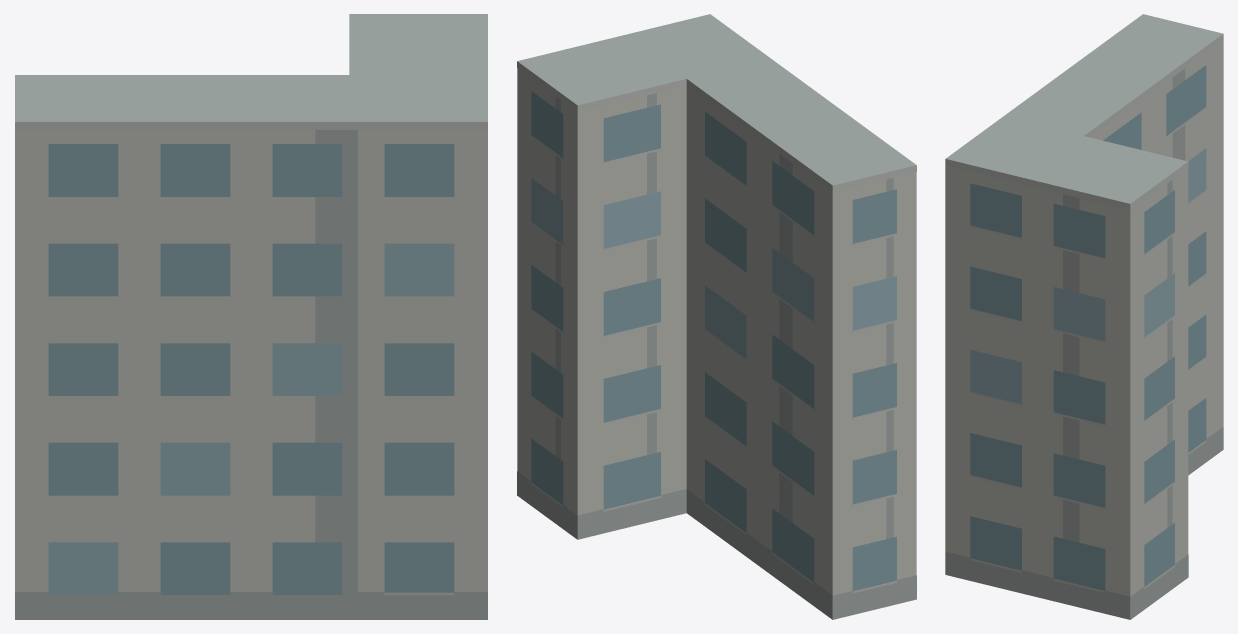
File: residential-9f5f7bda-4142-4a6a-a430-9abd8a897af5.glb
3 renders of one model, left to right at view 1: azimuth 30°, elevation 25°; view 2: azimuth 150°, elevation 25°; view 3: azimuth 270°, elevation 25°, orthographic. The views are drawn at different scales.
Visible parts, largest first — view 1: residential-9f5f7bda-4142-4a6a-a430-9abd8a897af5.tmp; view 2: residential-9f5f7bda-4142-4a6a-a430-9abd8a897af5.tmp; view 3: residential-9f5f7bda-4142-4a6a-a430-9abd8a897af5.tmp.
Part boxes in pixels (x1,y1,x2,y2): residential-9f5f7bda-4142-4a6a-a430-9abd8a897af5.tmp: (15,14,487,619); residential-9f5f7bda-4142-4a6a-a430-9abd8a897af5.tmp: (517,14,916,619); residential-9f5f7bda-4142-4a6a-a430-9abd8a897af5.tmp: (945,14,1223,619).
Size of the model in its own units: 14.94 by 15.25 by 9.25.
